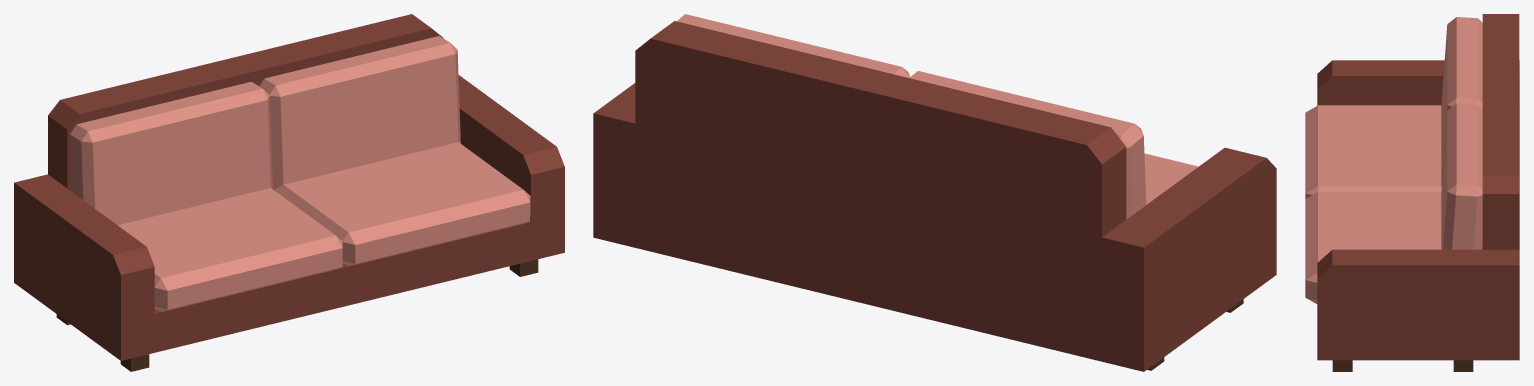
The model's file is couch.glb.
The picture shows the model from 3 angles, left to right: view 1: azimuth 30°, elevation 25°; view 2: azimuth 150°, elevation 25°; view 3: azimuth 270°, elevation 25°; orthographic projection. The views are drawn at different scales.
Visible parts, largest first — view 1: Couch; view 2: Couch; view 3: Couch.
Boxes of the visible parts, x1,y1,x2,y2 form: Couch: [14, 14, 564, 371]; Couch: [593, 14, 1276, 371]; Couch: [1305, 14, 1519, 371].
Size of the model in its own units: 3.18 by 1.32 by 1.4.
Materials: 1 (1 with a texture image).
